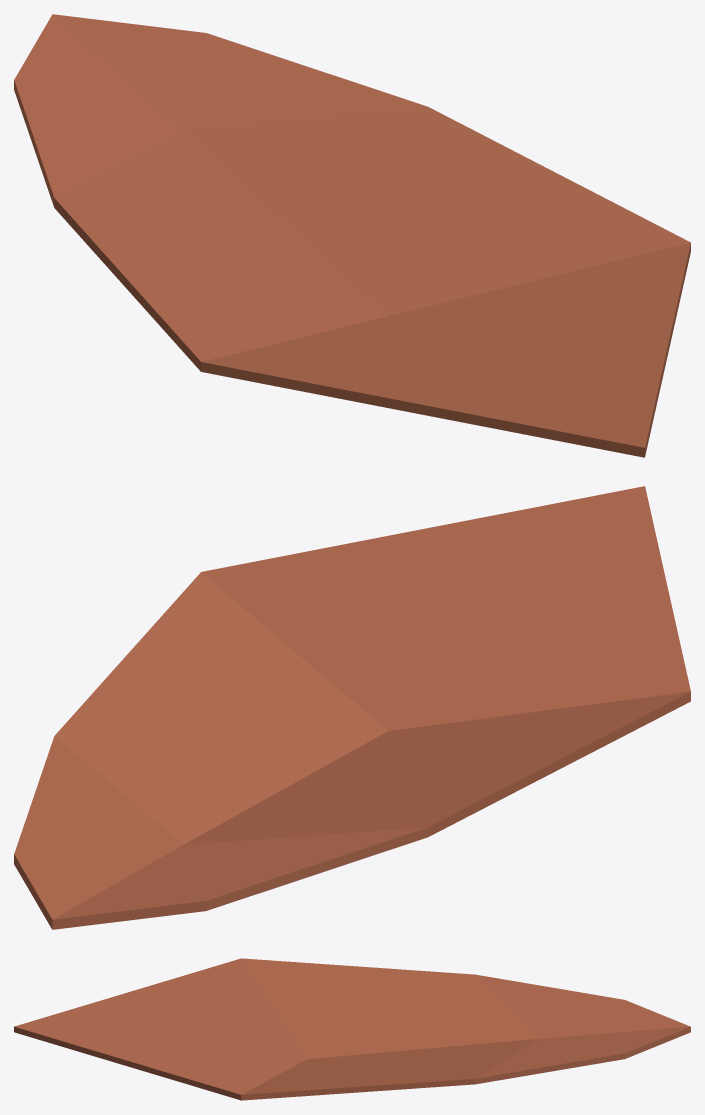
The model's file is leaf01.fbx.
3 renders of one model, top to bottom at view 1: azimuth 30°, elevation 25°; view 2: azimuth 150°, elevation 25°; view 3: azimuth 270°, elevation 25°, orthographic. The views are drawn at different scales.
Parts seen in each view (by area): view 1: yaprakv1; view 2: yaprakv1; view 3: yaprakv1.
Boxes of the visible parts, x1,y1,x2,y2 form: yaprakv1: (14,14,690,457); yaprakv1: (14,486,690,929); yaprakv1: (14,958,690,1100).
Size of the model in its own units: 0.0975 by 0.0128 by 0.2044.
